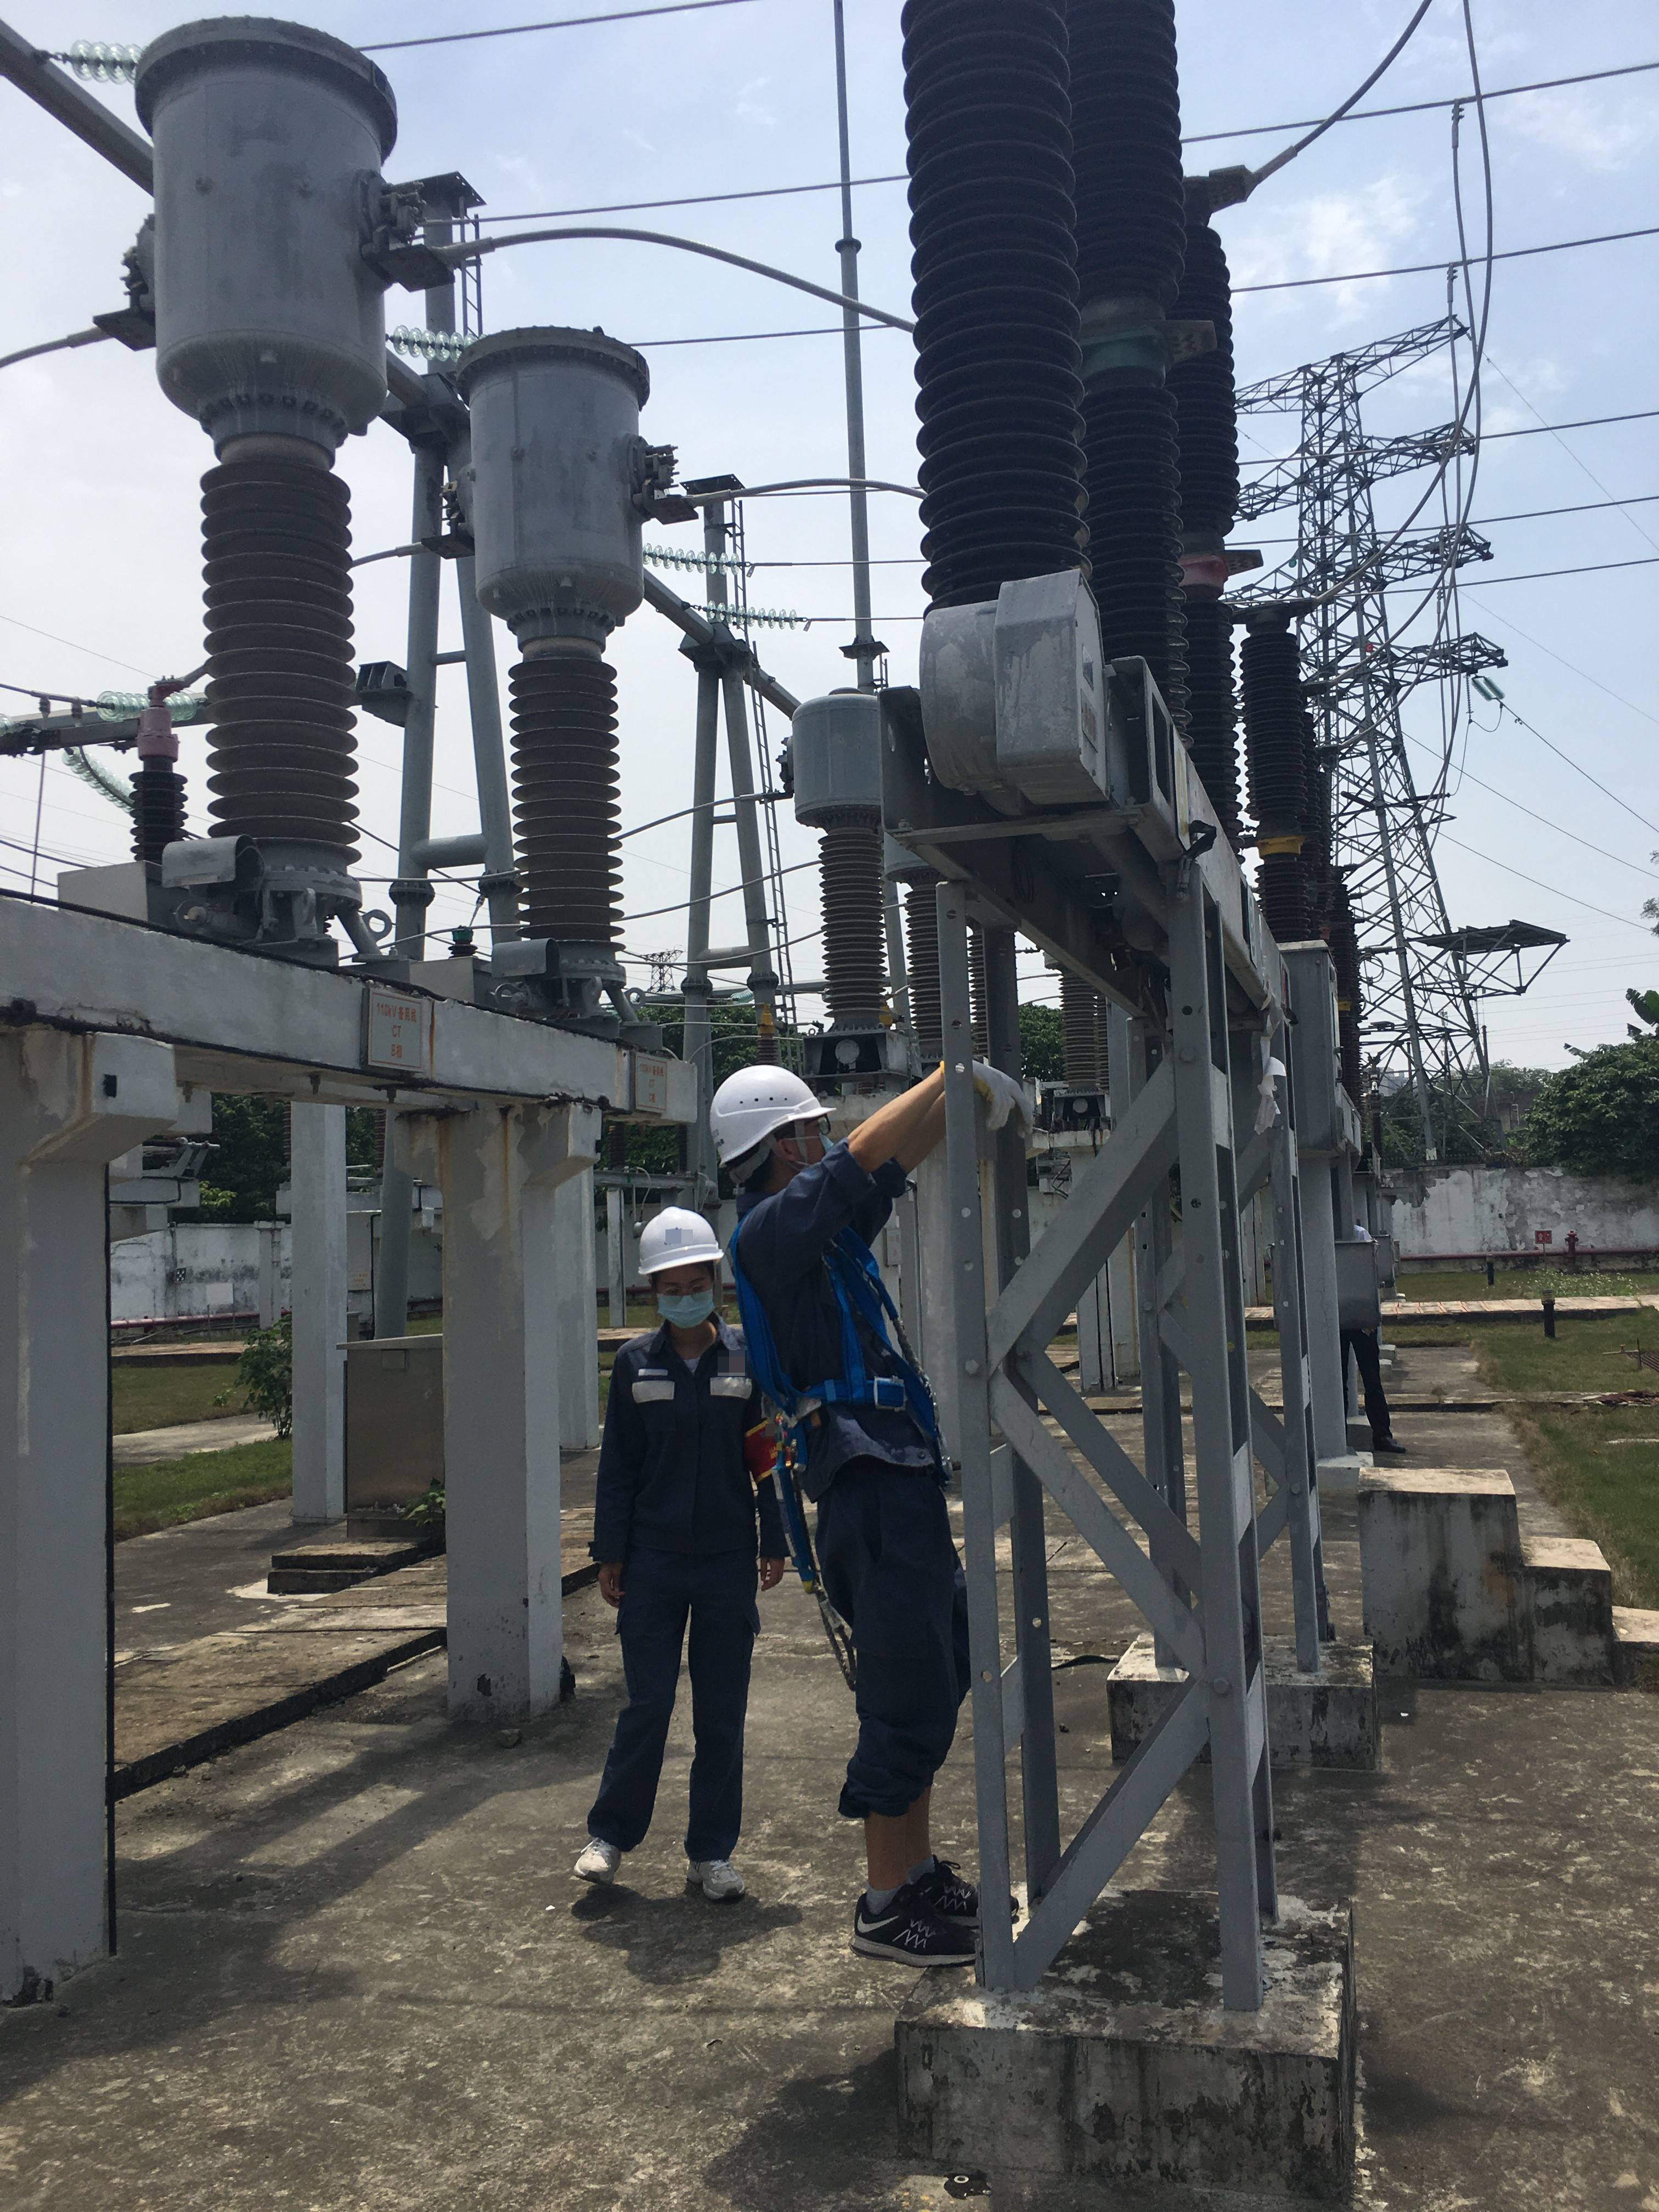downsuit: (814, 1477, 983, 1818), (589, 1580, 767, 1860)
upsuit: (734, 1163, 936, 1470), (589, 1329, 786, 1569)
wrongbottom: (836, 1768, 946, 1900)
wrongtop: (831, 1062, 955, 1193)
